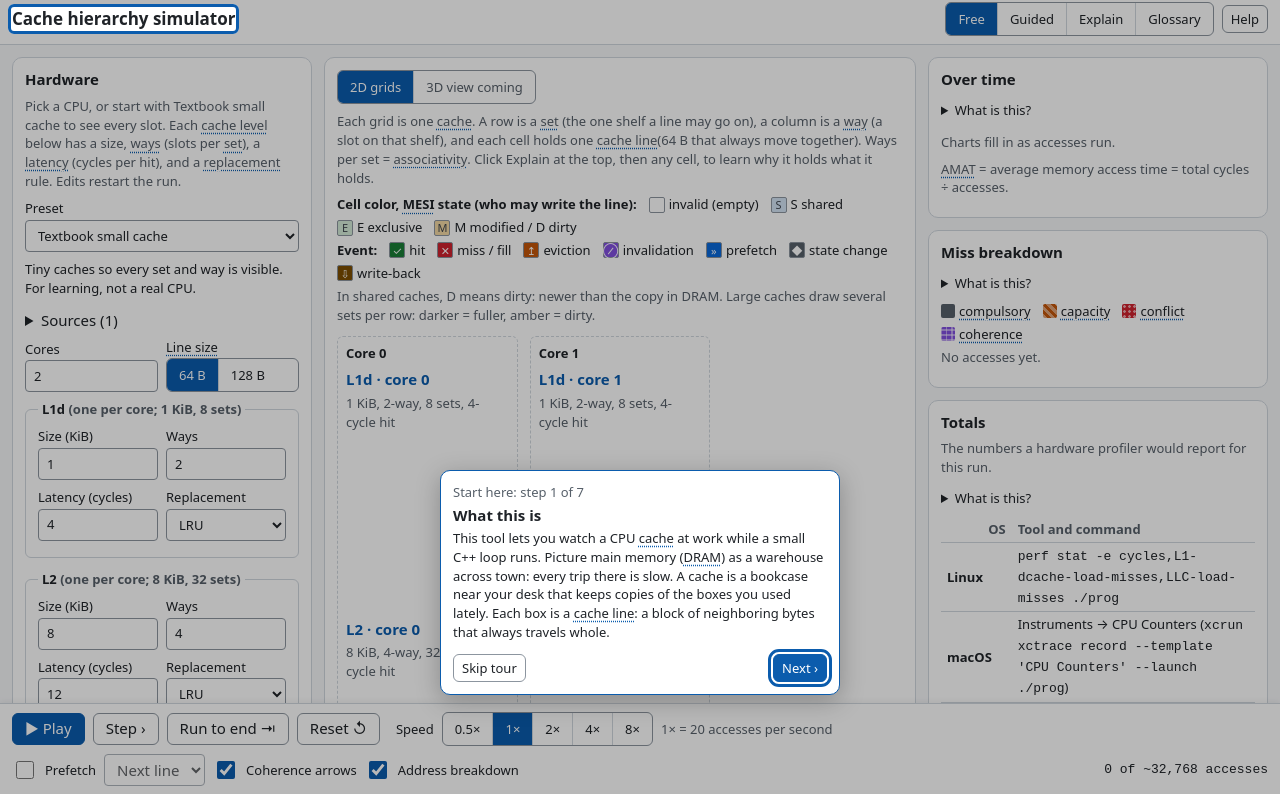
Test: App › steps exactly one access and shows it
The image size is (1280, 794).
Click the button "Step ›" at {"x": 126, "y": 729}, box 93,713 -> 159,745
(page scrolled)
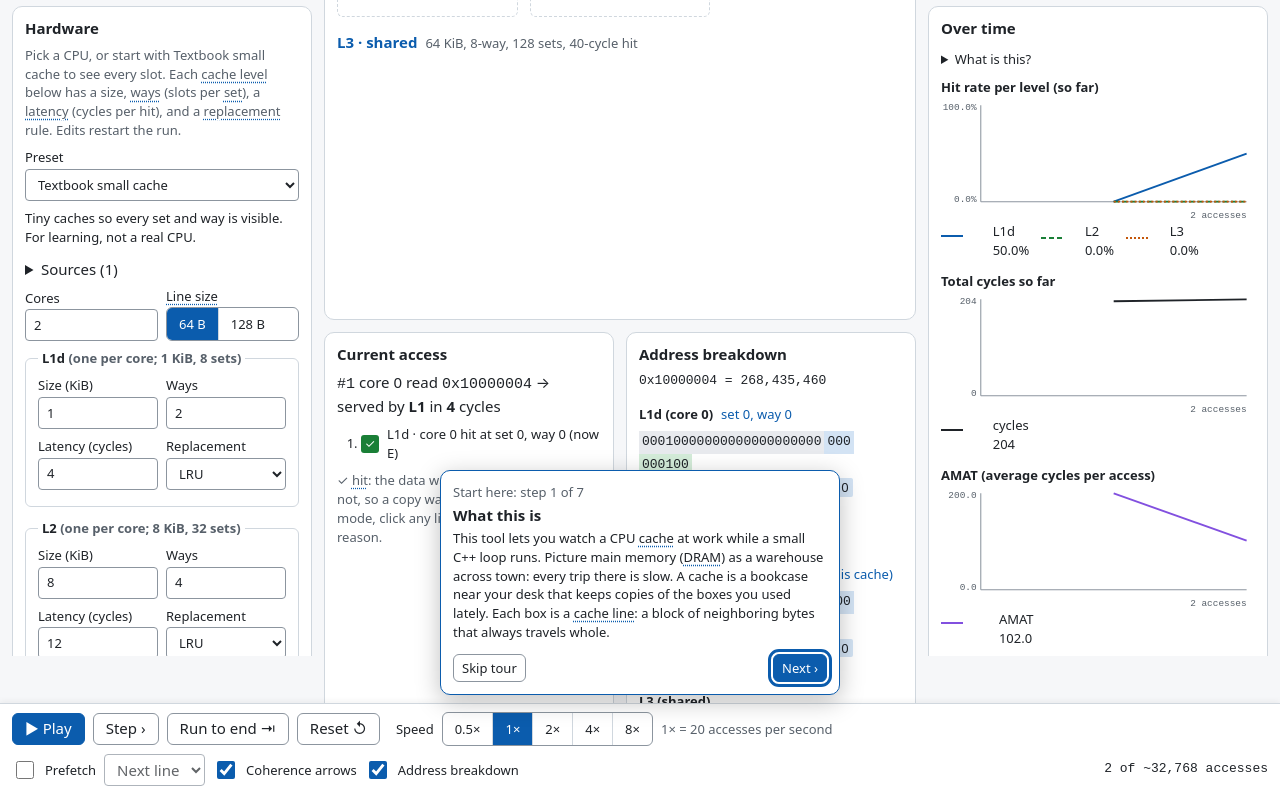
Expected: the button "#1 core 0 read 0x10000004 → served by L1 in 4 cycles" is shown, 337,372 -> 601,417
